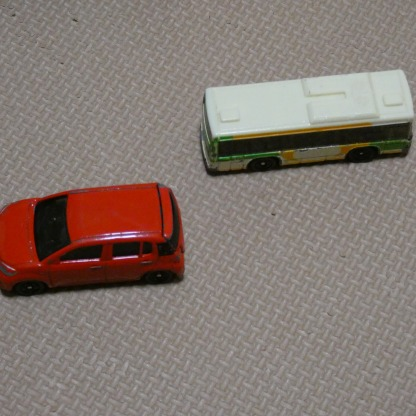car: (200, 61, 414, 177), (0, 181, 188, 294)
